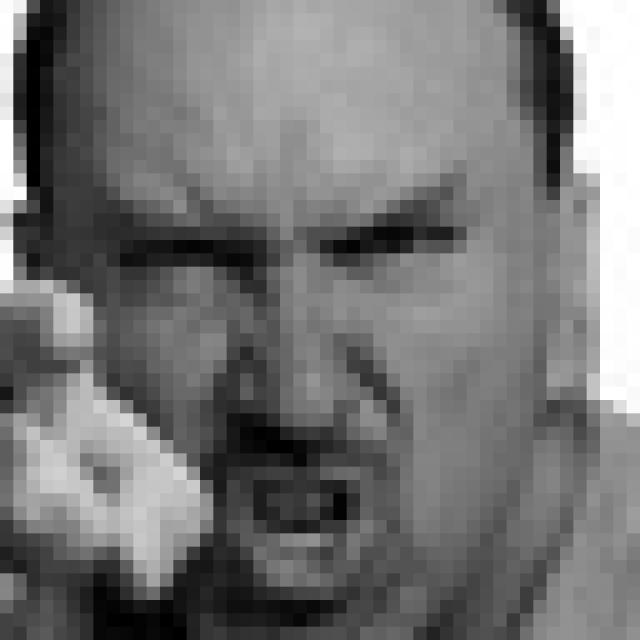angry: (108, 152, 478, 606)
